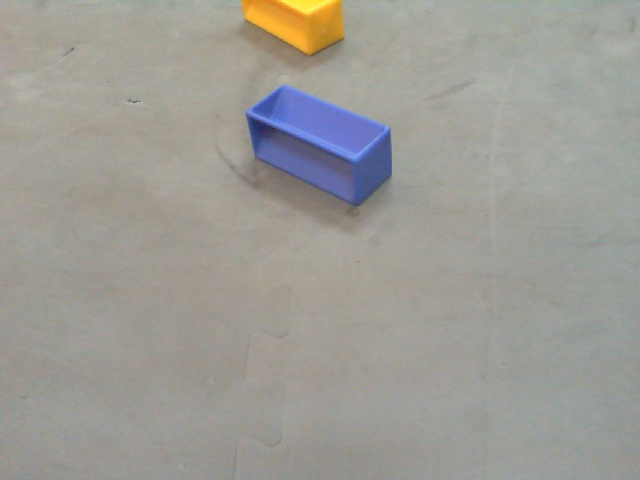BlueSample: (244, 82, 394, 207)
YellowSample: (240, 1, 347, 57)
